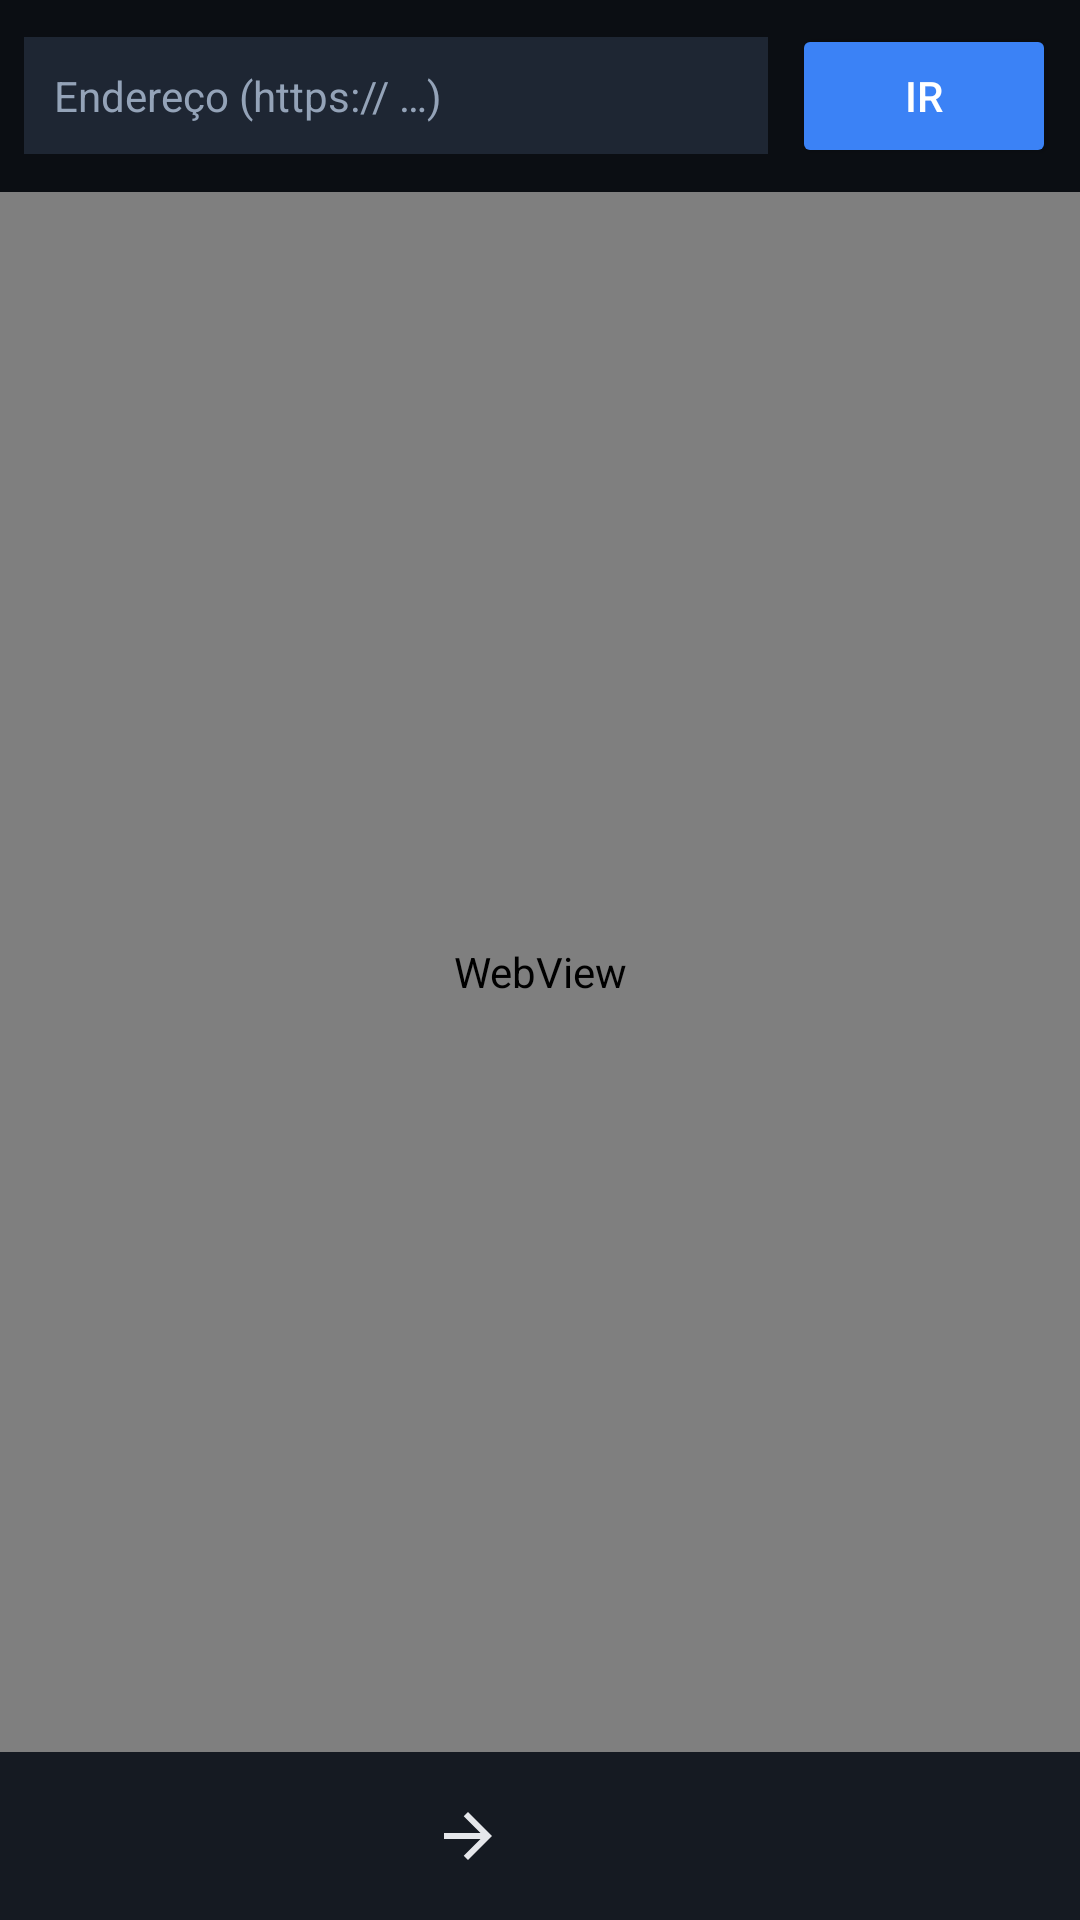

Point at icon controls on the screen. Image size 1080*1920, points as [x,y].
forward: [468,1836]
